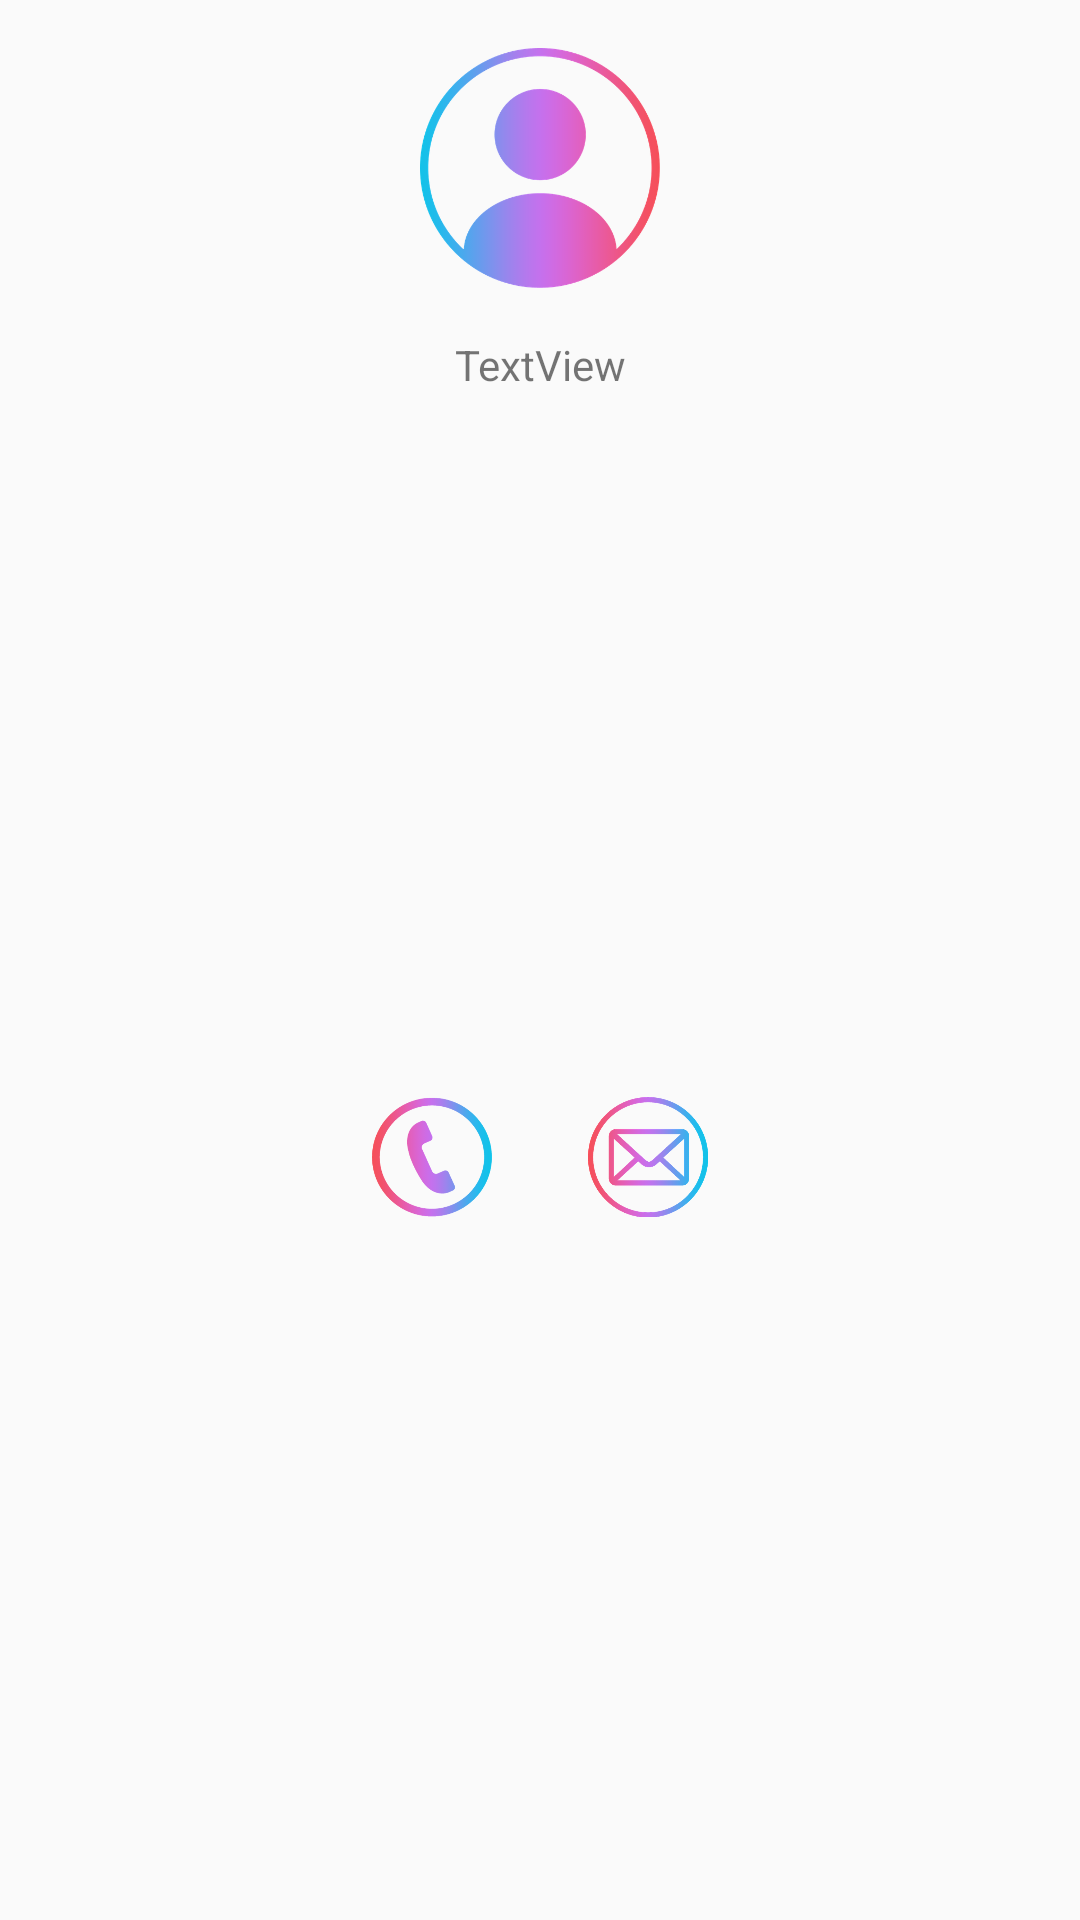

Icon bounding boxes for this 1080 x 1920 phone screenshot, format (x1, y1, x2, y2):
email: (588, 1097, 708, 1217)
phone: (372, 1098, 492, 1217)
user: (420, 48, 660, 288)
